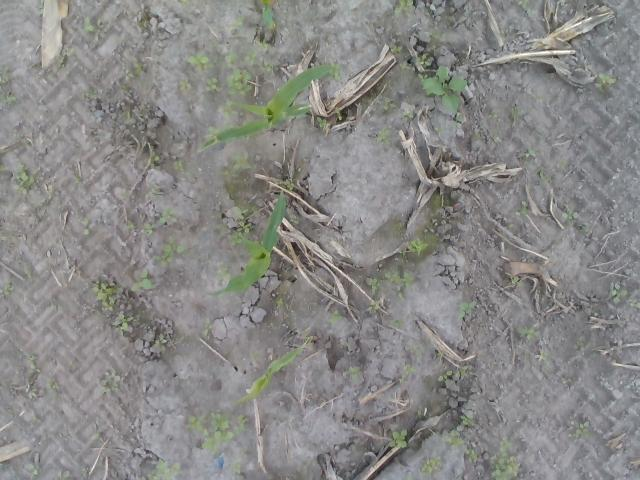Maize: (198, 60, 330, 156), (207, 194, 287, 302), (236, 346, 304, 406), (260, 1, 275, 28)
Weeds: (416, 65, 472, 115), (185, 413, 250, 451), (224, 51, 256, 98), (490, 433, 522, 480), (152, 232, 189, 268), (88, 278, 125, 313), (230, 200, 252, 246), (222, 151, 254, 177), (13, 159, 34, 193), (186, 50, 218, 72), (148, 458, 180, 480), (435, 114, 465, 135), (383, 268, 413, 289), (132, 267, 157, 291), (400, 238, 430, 257), (100, 367, 120, 395), (609, 281, 629, 305), (437, 366, 467, 382), (364, 270, 382, 294), (442, 430, 465, 448), (420, 456, 441, 474), (518, 324, 540, 341), (392, 0, 414, 17), (56, 48, 74, 68), (112, 312, 130, 332), (388, 430, 408, 448), (595, 73, 616, 90), (574, 420, 591, 440), (144, 151, 162, 169), (160, 207, 177, 225), (458, 301, 474, 320), (376, 126, 392, 145), (82, 16, 98, 34), (204, 76, 220, 94), (213, 264, 231, 280), (25, 463, 41, 480), (464, 448, 481, 464), (383, 96, 400, 112), (29, 352, 41, 374), (78, 216, 91, 236), (328, 63, 342, 81), (228, 16, 243, 32), (348, 366, 360, 386), (392, 287, 406, 304), (514, 200, 528, 217), (254, 35, 272, 48), (0, 63, 10, 86), (46, 379, 60, 395), (24, 384, 38, 400), (0, 92, 16, 106), (562, 208, 578, 222), (223, 105, 240, 118), (177, 79, 194, 92), (151, 339, 168, 351), (202, 318, 212, 338), (142, 222, 156, 236), (328, 310, 342, 324), (416, 54, 430, 68), (0, 283, 15, 296), (432, 30, 448, 42), (523, 145, 536, 159), (303, 328, 313, 346), (366, 301, 381, 313), (134, 62, 146, 76), (628, 298, 640, 312), (317, 116, 329, 129), (389, 42, 402, 54), (460, 415, 474, 426), (262, 62, 274, 74), (58, 471, 74, 480), (207, 125, 220, 136), (173, 160, 186, 171), (248, 351, 262, 361), (140, 16, 151, 28), (535, 351, 547, 362), (404, 364, 416, 375), (402, 111, 414, 122), (36, 0, 44, 16), (120, 110, 132, 120), (126, 222, 138, 232), (487, 110, 498, 120), (517, 0, 528, 10), (399, 63, 410, 73), (72, 174, 82, 184), (233, 462, 241, 474), (288, 215, 298, 224), (286, 179, 294, 190), (95, 431, 104, 440), (87, 87, 96, 96), (512, 276, 522, 284), (23, 270, 32, 278), (393, 319, 402, 327), (275, 298, 284, 306), (493, 136, 502, 144), (335, 110, 342, 120), (282, 26, 290, 34), (296, 362, 304, 370), (472, 132, 480, 140), (178, 0, 188, 6), (511, 104, 518, 112), (0, 163, 6, 172), (80, 467, 88, 473)
